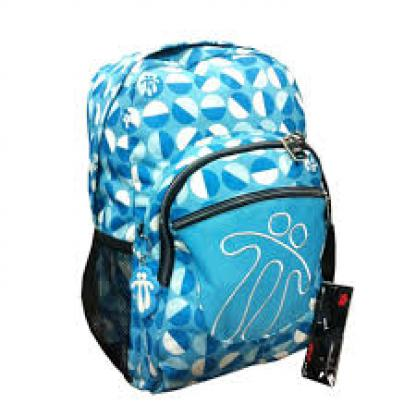morral: (70, 9, 364, 400)
